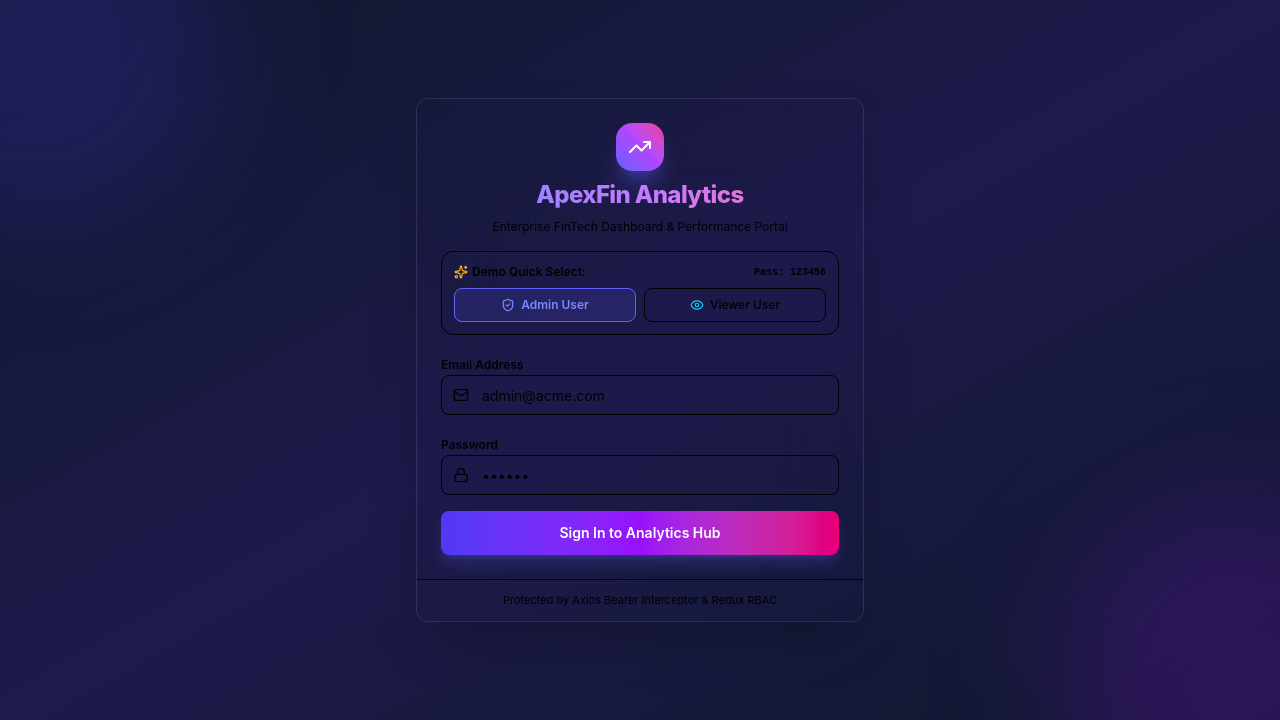
it: LoginPage Component › updates email input when quick fill admin button is clicked
The width and height of the screenshot is (1280, 720).
Step 1. Click the button "Viewer User" → [735, 305], box [644, 288, 826, 322]
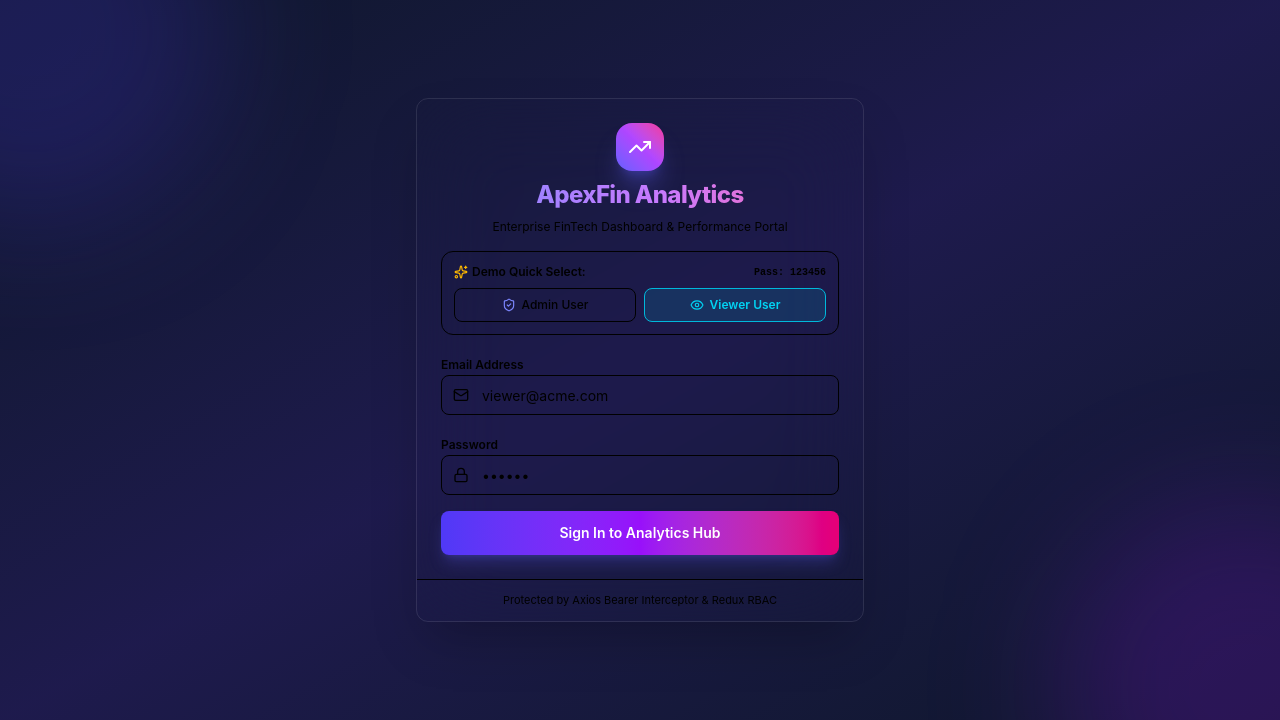
Now the field with placeholder "admin@acme.com" holds "viewer@acme.com", box [441, 375, 839, 415]
